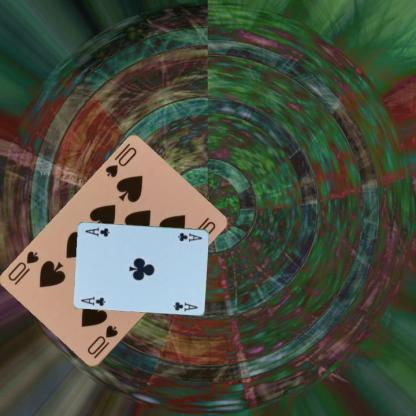10s: (84, 323, 119, 360), (103, 144, 138, 180)
Ac: (78, 293, 107, 307), (176, 231, 204, 242)
